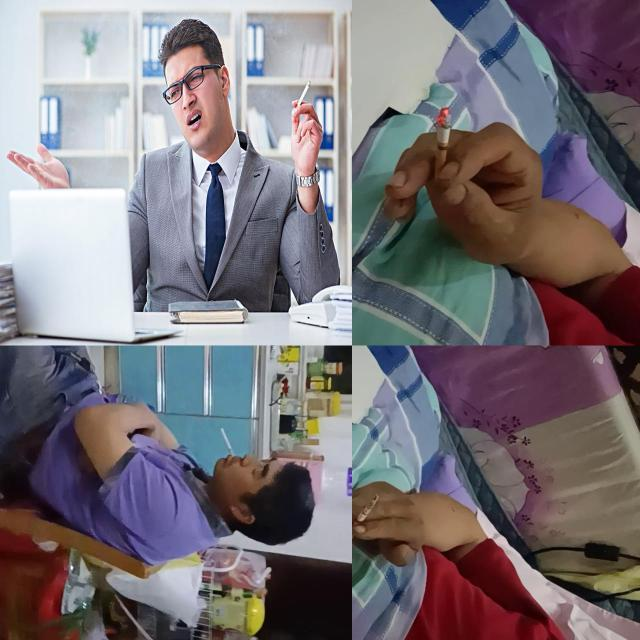smoking: (434, 108, 454, 184), (352, 493, 380, 543), (293, 74, 312, 114), (221, 428, 235, 458)
